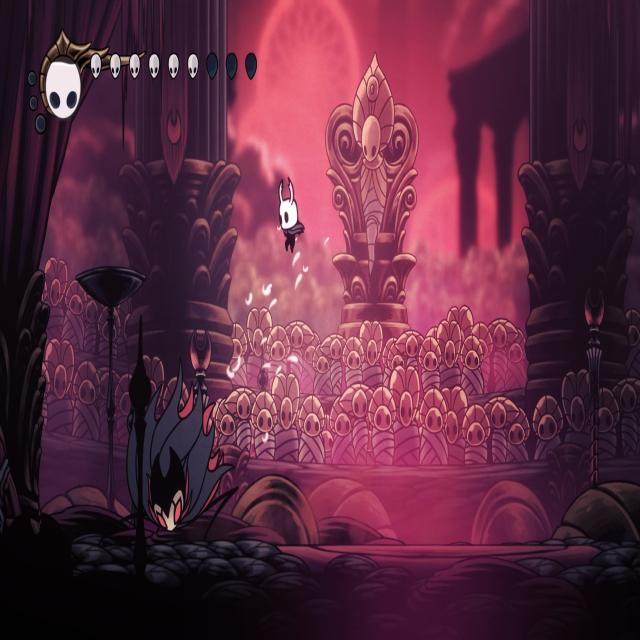Dive Dash: (105, 352, 242, 546)
Player: (274, 169, 306, 256)
